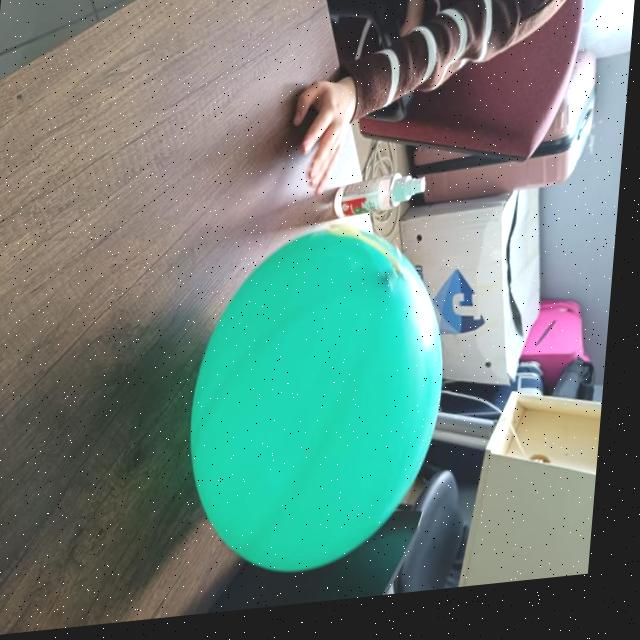balloon: (189, 226, 461, 587)
